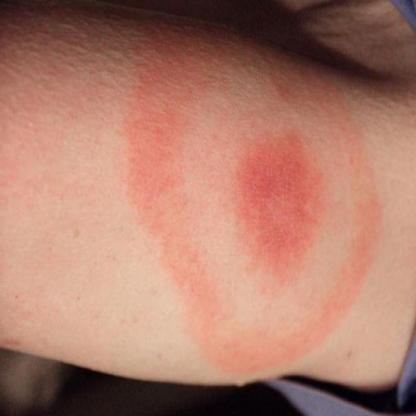Ringworm: (230, 122, 336, 297)
